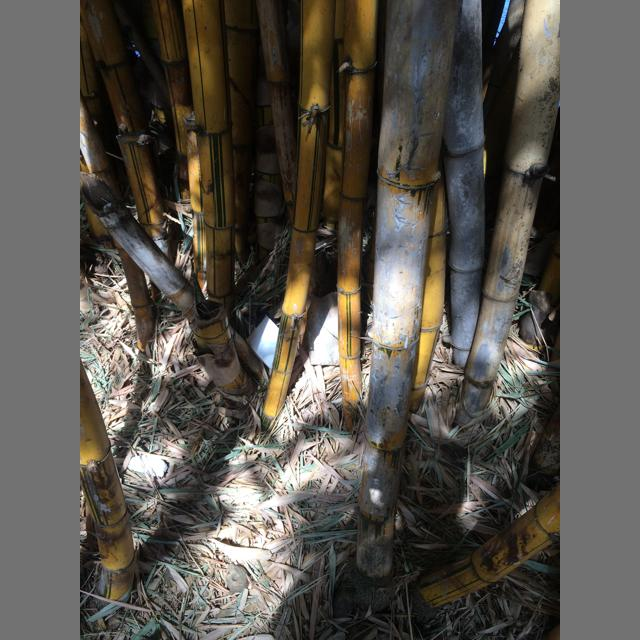litter: (247, 314, 279, 370)
